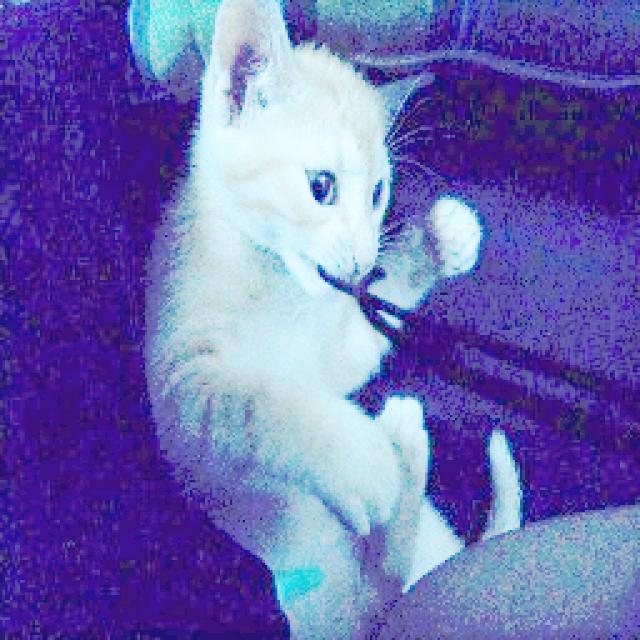cat: (0, 0, 534, 633)
